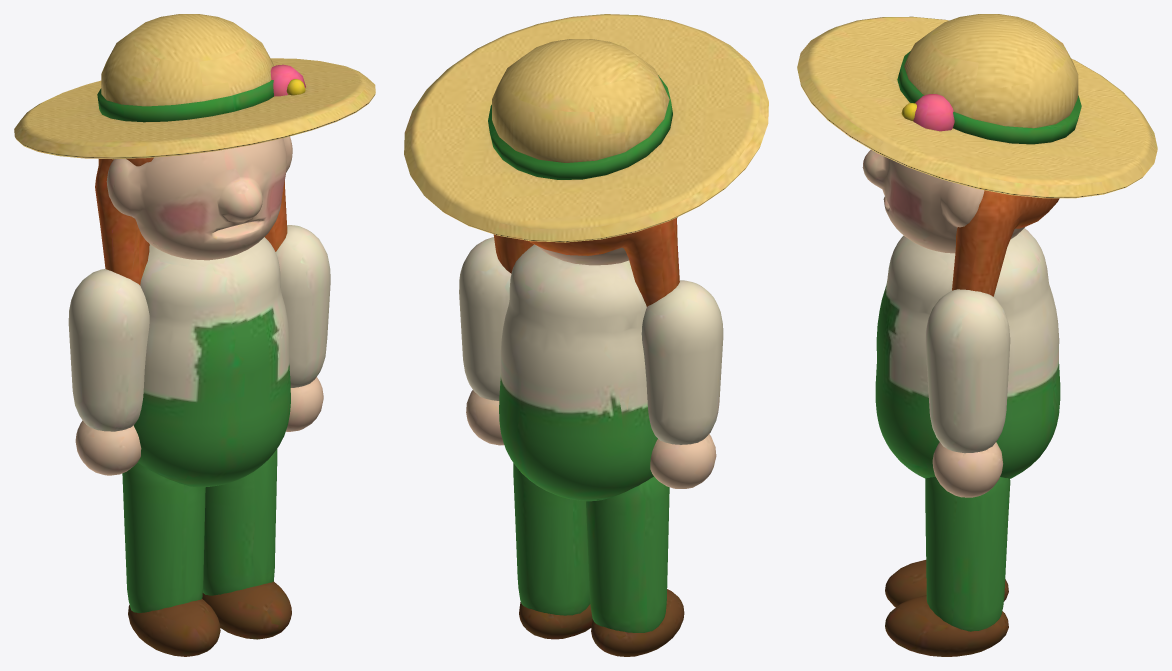
The model's file is villager_ivy.glb.
3 renders of one model, left to right at view 1: azimuth 30°, elevation 25°; view 2: azimuth 150°, elevation 25°; view 3: azimuth 270°, elevation 25°, orthographic.
Parts seen in each view (by area): view 1: head, body, leg0, arm0, leg1, arm1; view 2: head, body, arm0, leg0, leg1, arm1; view 3: head, body, leg1, arm1, leg0.
Part boxes in pixels (x1,y1,x2,y2): head: (14,14,375,285); body: (133,237,290,487); leg0: (122,462,220,656); arm0: (68,269,149,475); leg1: (202,449,291,639); arm1: (275,225,330,431); head: (404,14,768,306); body: (499,244,657,501); arm0: (641,280,723,488); leg0: (586,476,684,656); leg1: (513,463,592,639); arm1: (459,237,511,445); head: (797,14,1157,296); body: (875,228,1060,478); leg1: (885,477,1010,656); arm1: (925,289,1010,497); leg0: (885,560,1008,607).
Bounding box in the file's own units: 0.5315 × 0.9627 × 0.5157.
Materials: 1 (1 with a texture image).
